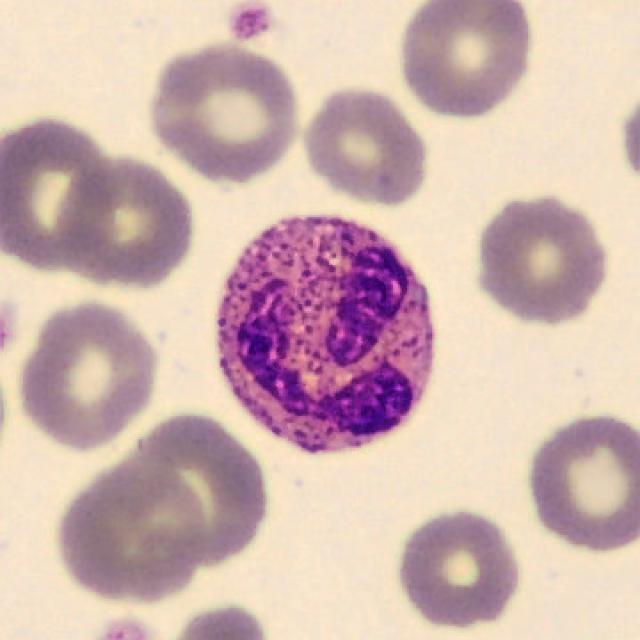Neutrofilo segmentado: (217, 217, 436, 455)
